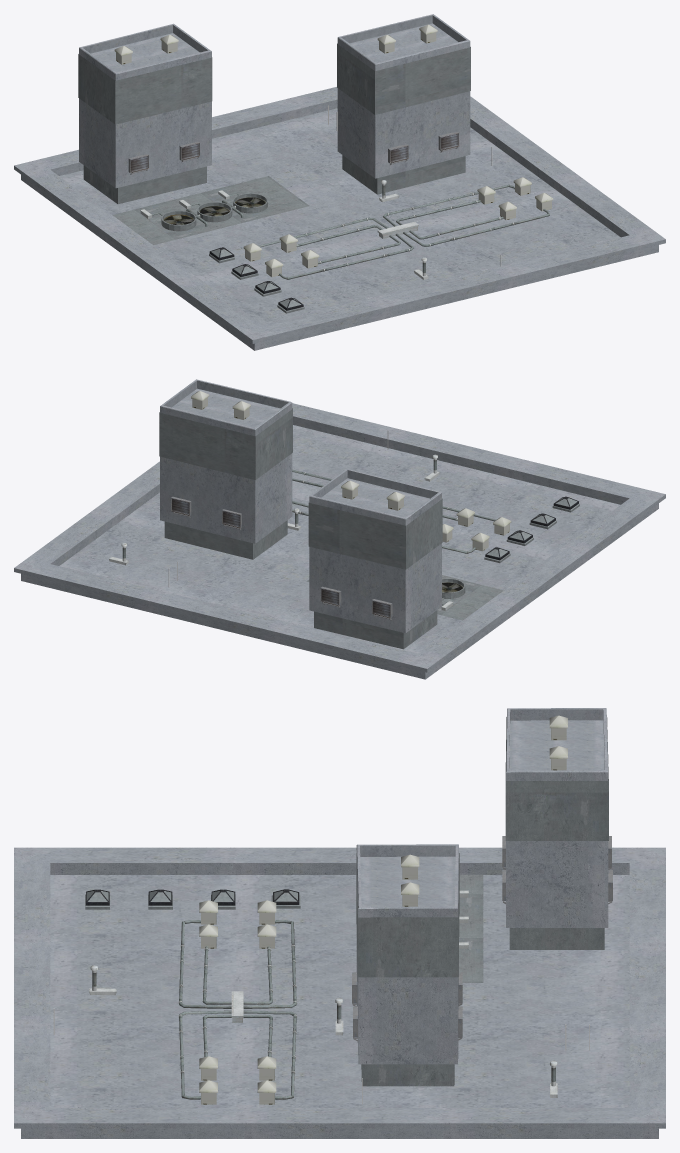
The model's file is u2NEBuild5.gltf.
The picture shows the model from 3 angles, top to bottom: view 1: azimuth 30°, elevation 25°; view 2: azimuth 150°, elevation 25°; view 3: azimuth 270°, elevation 25°; orthographic projection. The views are drawn at different scales.
Parts seen in each view (by area): view 1: u2NEBuild5; view 2: u2NEBuild5; view 3: u2NEBuild5.
Boxes of the visible parts, <box> form: u2NEBuild5: <box>14,14,665,350</box>; u2NEBuild5: <box>14,379,665,679</box>; u2NEBuild5: <box>14,708,665,1138</box>.
Bounding box in the file's own units: 13.08 × 4.37 × 13.08.
7 materials, 6 textured.
